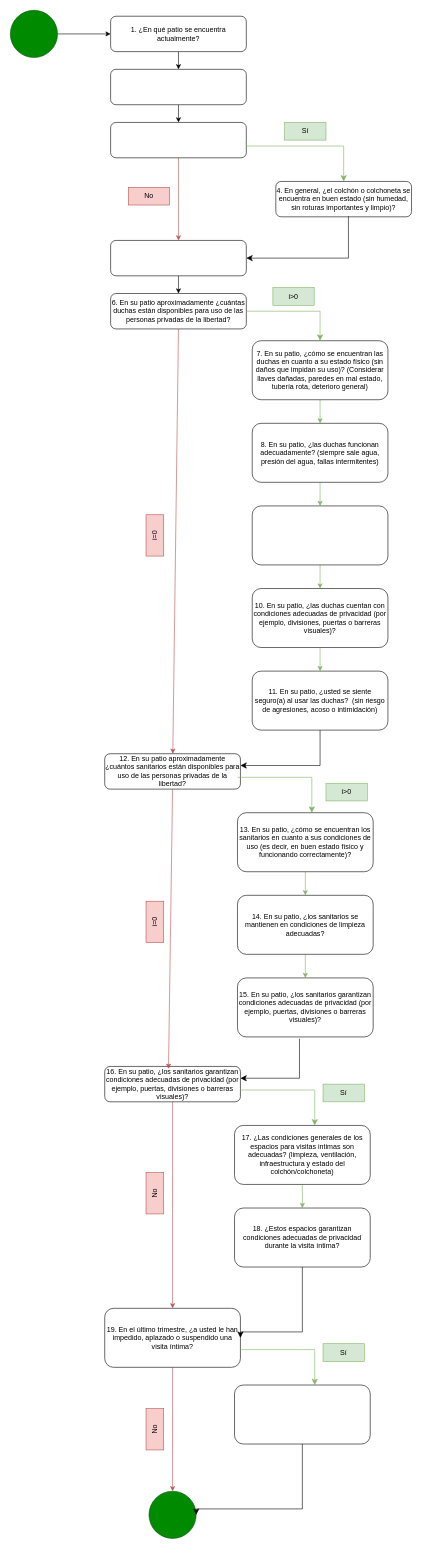
Some shapes in this 422 by 1549 pixel diagram are drawn without their labels. Here are the shapes that lost their labels. From the top down, the box of each, then its label:
(10, 10, 58, 58): Infraestructura
(110, 69, 246, 105): 2. Actualmente, ¿en qué duerme usted en las noches?
(110, 122, 246, 158): 3. ¿Usted cuenta con un colchón o colchoneta propio para dormir?
(110, 240, 246, 276): 5. ¿Cuenta con al menos una cobija o elemento similar para cubrirse al dormir?
(252, 505, 388, 565): 9. En su patio, ¿las duchas se mantienen en condiciones de limpieza adecuadas?
(234, 1384, 370, 1444): 20. ¿Cuál fue la principal razón del impedimento, aplazamiento o suspensión?
(148, 1491, 196, 1538): Fin
